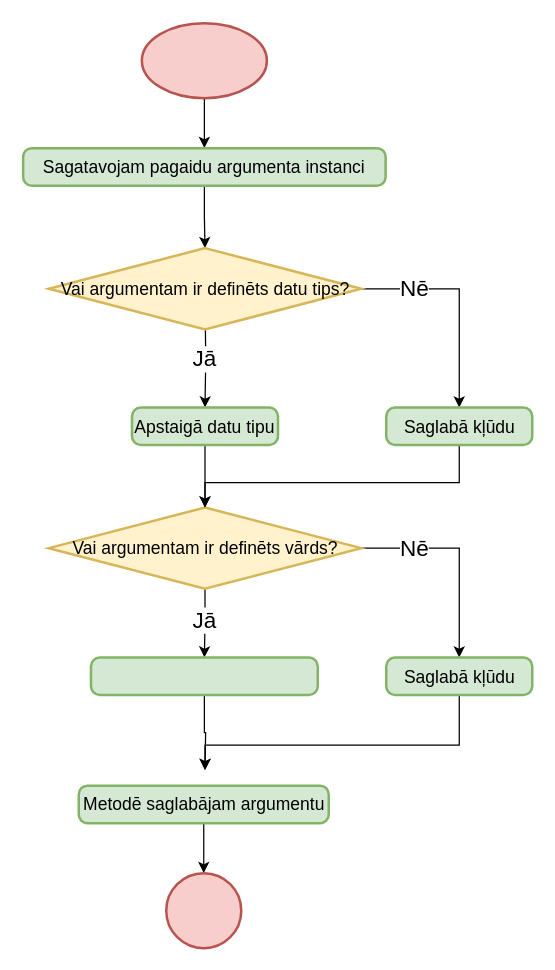
Some shapes in this 555 by 970 pixel diagram are drawn without their labels. The shapes that lost their labels are listed below. From the top down, each one's box as (x1, y1, x2, y2) in pixels, then its label:
(140, 21, 268, 99): Sākums
(89, 656, 318, 696): Apstaigā argumenta vārdu
(164, 871, 242, 949): Beigas
